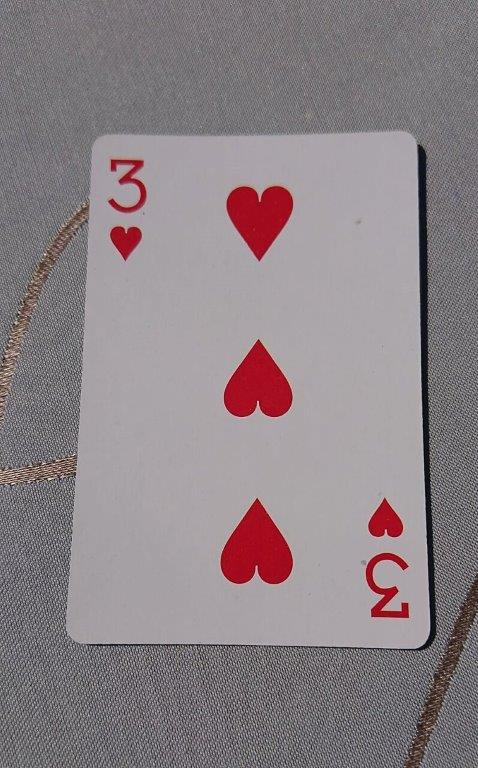3H: (63, 129, 433, 651)
